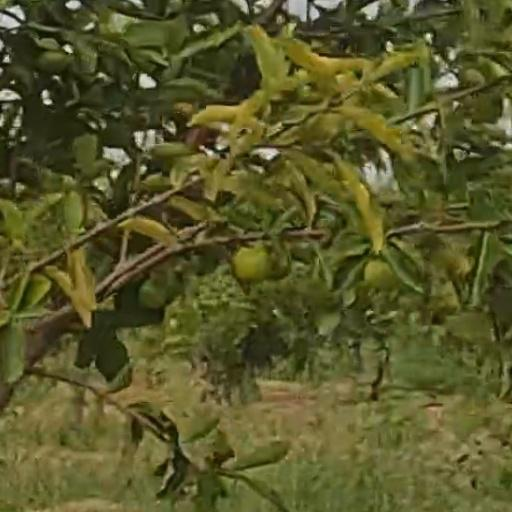acerola: (235, 247, 271, 284), (365, 263, 392, 286)
